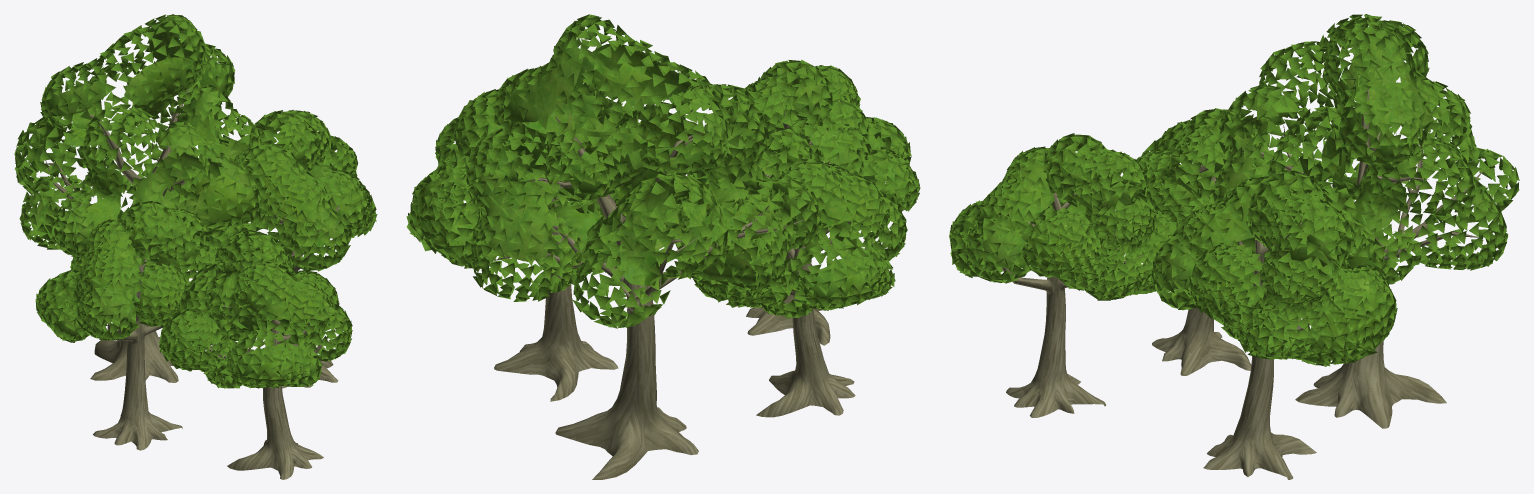
The model's file is SM_ENV_LKNVLD_TreeSet_F.FBX.
3 views of the same model, side by side, from view 1: azimuth 30°, elevation 25°; view 2: azimuth 150°, elevation 25°; view 3: azimuth 270°, elevation 25° (orthographic). The views are drawn at different scales.
Visible parts, largest first — view 1: SM_ENV_LKNVLD_TreeSet_F; view 2: SM_ENV_LKNVLD_TreeSet_F; view 3: SM_ENV_LKNVLD_TreeSet_F.
Part boxes in pixels (x1=…): SM_ENV_LKNVLD_TreeSet_F: x1=14, y1=14, x2=377, y2=479; SM_ENV_LKNVLD_TreeSet_F: x1=406, y1=14, x2=920, y2=479; SM_ENV_LKNVLD_TreeSet_F: x1=949, y1=14, x2=1519, y2=479.
Size of the model in its own units: 1460 by 1393 by 1811.
